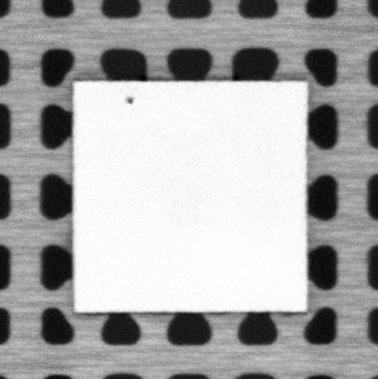DIE_INK: (123, 94, 135, 105)
